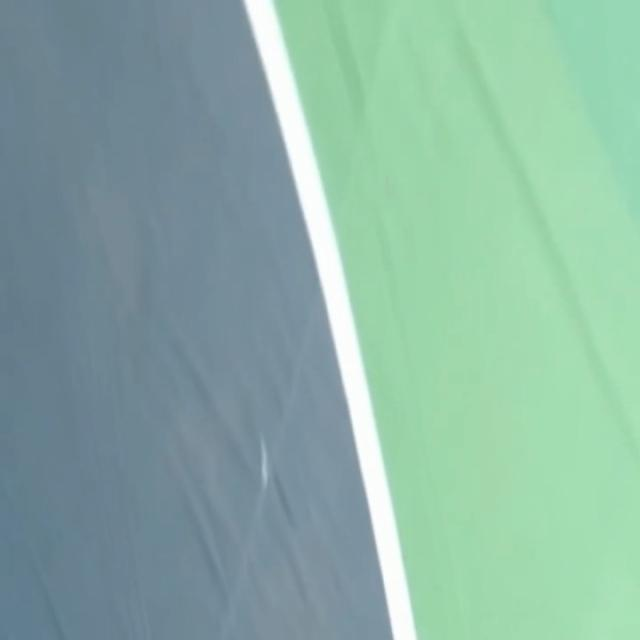right: (244, 0, 416, 639)
